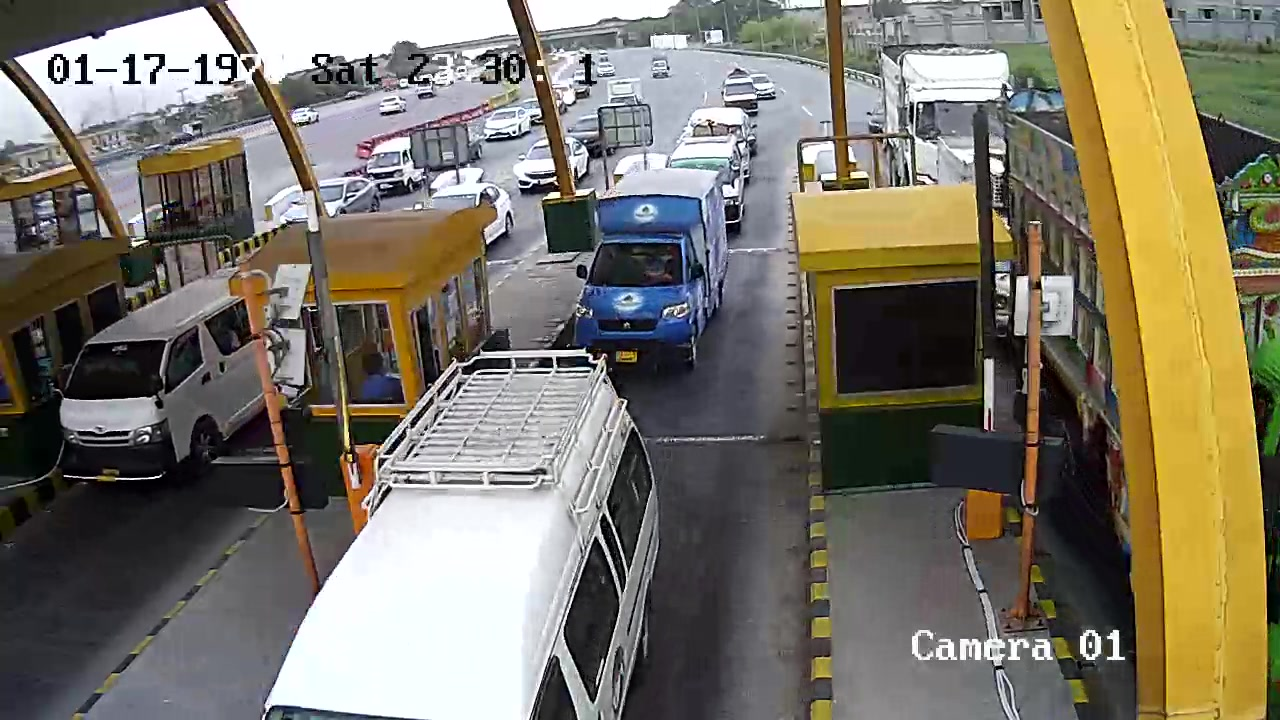F2: (557, 169, 736, 366)
